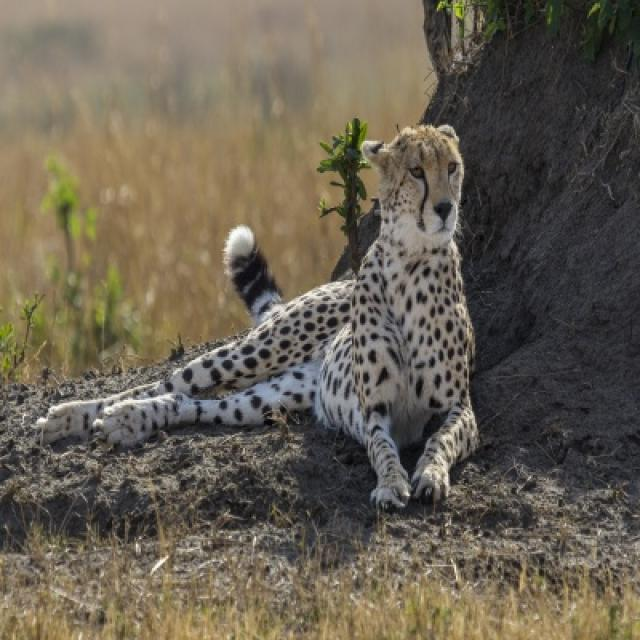Cheetah: (42, 128, 479, 514)
